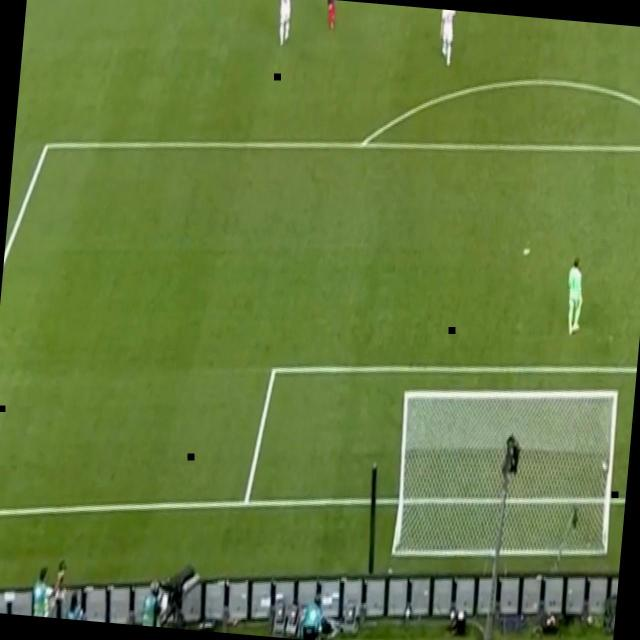player-white: (562, 252, 588, 340), (434, 9, 458, 69), (271, 0, 296, 49), (316, 0, 339, 32)
